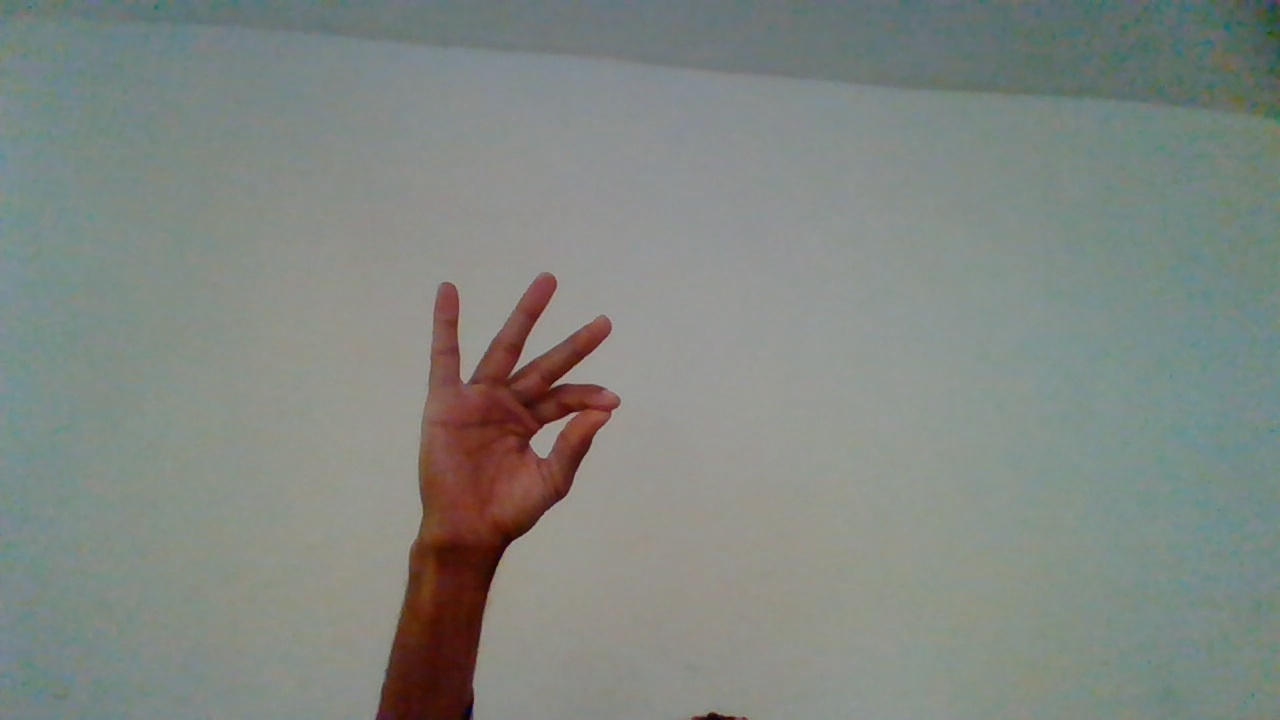le: (412, 268, 623, 661)
